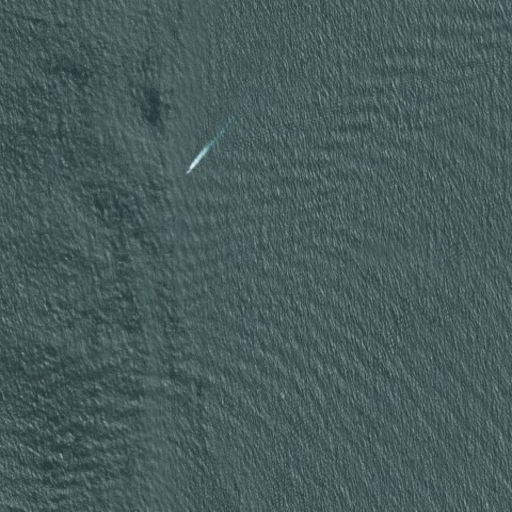ship: (183, 165, 195, 176)
